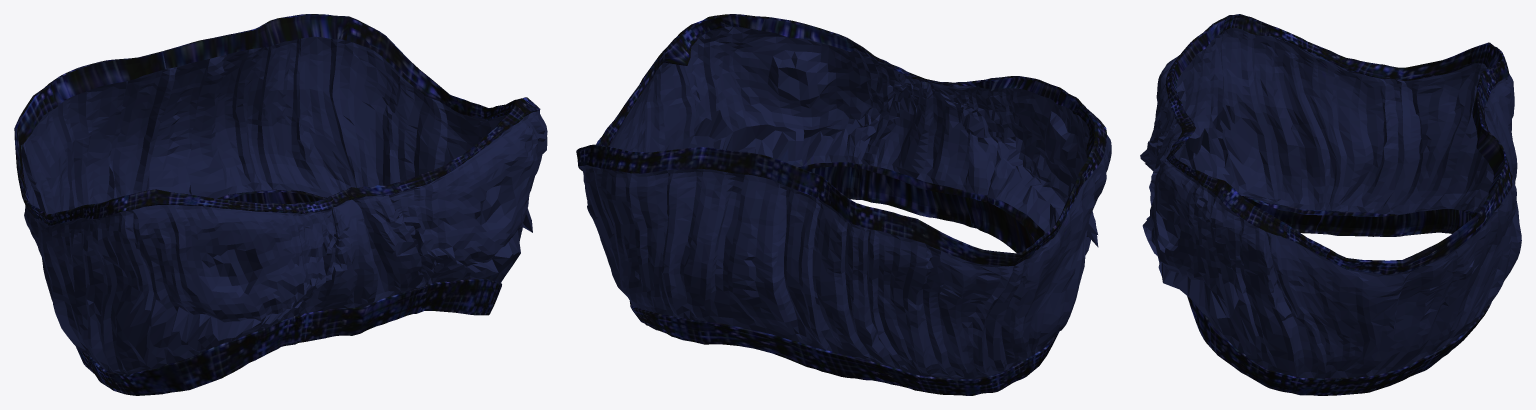
File: mhw_elvs_bandeau_swimwear_top_1.glb
3 views of the same model, side by side, from view 1: azimuth 30°, elevation 25°; view 2: azimuth 150°, elevation 25°; view 3: azimuth 270°, elevation 25° (orthographic). The views are drawn at different scales.
Visible parts, largest first — view 1: mhw_elvs_bandeau_swimwear_top_1; view 2: mhw_elvs_bandeau_swimwear_top_1; view 3: mhw_elvs_bandeau_swimwear_top_1.
Boxes of the visible parts, bbox=[...] form: mhw_elvs_bandeau_swimwear_top_1: bbox=[14, 14, 547, 395]; mhw_elvs_bandeau_swimwear_top_1: bbox=[576, 14, 1111, 395]; mhw_elvs_bandeau_swimwear_top_1: bbox=[1140, 14, 1521, 395].
Bounding box in the file's own units: 0.3693 × 0.1871 × 0.2935.
Materials: 1 (1 with a texture image).
